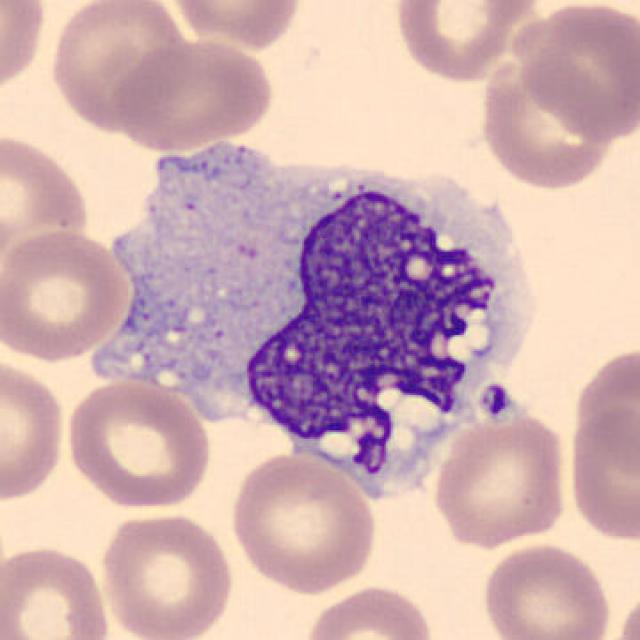Monocyte: (73, 132, 553, 485)
RBC: (471, 42, 633, 194), (226, 450, 380, 596), (428, 404, 572, 550), (60, 376, 214, 512), (44, 0, 192, 136), (110, 35, 278, 154), (96, 506, 238, 640), (0, 225, 133, 363), (514, 0, 638, 141), (478, 539, 615, 640), (0, 126, 92, 273), (391, 0, 546, 85), (0, 539, 114, 640), (0, 352, 69, 506), (564, 402, 638, 543), (578, 342, 640, 483), (300, 582, 438, 640), (167, 0, 304, 51), (0, 0, 48, 100), (610, 585, 638, 640)
